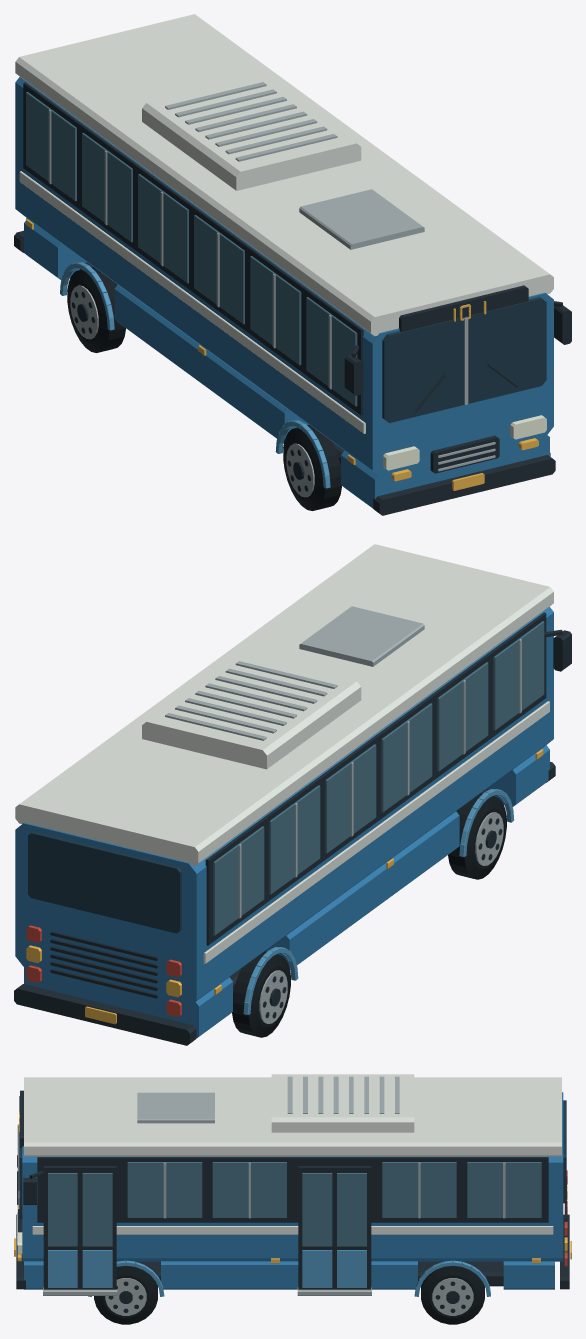
File: CivilianBus.obj
3 renders of one model, top to bottom at view 1: azimuth 30°, elevation 25°; view 2: azimuth 150°, elevation 25°; view 3: azimuth 270°, elevation 25°, orthographic. The views are drawn at different scales.
Parts seen in each view (by area): view 1: Roof, BusBody, Windshield, RoofAC, WindowBandL, LowerCenter, SideWhiteBandL, RoofHatch, SideGlassL4, SideGlassL1, SideGlassL2, SideGlassL0 (+15 smaller); view 2: Roof, BusBody, RoofAC, RearWindow, WindowBandL, LowerCenter, SideWhiteBandL, RoofHatch, LowerEnd-3.4, SideGlassL0, SideGlassL1, SideGlassL3 (+10 smaller); view 3: Roof, BusBody, WindowBandR, RoofAC, LowerCenter, SideGlassR4, SideGlassR1, SideGlassR0, SideGlassR3, SideWhiteBandR, DoorFrame0, DoorFrame1 (+22 smaller).
Boxes of the visible parts, x1=… form: Roof: x1=15, y1=14, x2=553, y2=336; BusBody: x1=15, y1=77, x2=553, y2=476; Windshield: x1=382, y1=297, x2=546, y2=423; RoofAC: x1=142, y1=74, x2=361, y2=190; WindowBandL: x1=23, y1=82, x2=363, y2=415; LowerCenter: x1=114, y1=285, x2=308, y2=443; SideWhiteBandL: x1=19, y1=171, x2=365, y2=433; RoofHatch: x1=299, y1=189, x2=424, y2=249; SideGlassL4: x1=250, y1=256, x2=301, y2=365; SideGlassL1: x1=82, y1=133, x2=132, y2=242; SideGlassL2: x1=138, y1=174, x2=188, y2=283; SideGlassL0: x1=26, y1=92, x2=76, y2=201; Roof: x1=15, y1=544, x2=553, y2=866; BusBody: x1=15, y1=606, x2=553, y2=1006; RoofAC: x1=142, y1=653, x2=361, y2=769; RearWindow: x1=28, y1=831, x2=181, y2=933; WindowBandL: x1=205, y1=612, x2=546, y2=945; LowerCenter: x1=265, y1=811, x2=459, y2=970; SideWhiteBandL: x1=203, y1=701, x2=549, y2=963; RoofHatch: x1=299, y1=606, x2=424, y2=666; LowerEnd-3.4: x1=24, y1=967, x2=232, y2=1038; SideGlassL0: x1=213, y1=826, x2=264, y2=935; SideGlassL1: x1=269, y1=785, x2=320, y2=894; SideGlassL3: x1=381, y1=703, x2=432, y2=812; Roof: x1=24, y1=1077, x2=561, y2=1156; BusBody: x1=22, y1=1092, x2=563, y2=1261; WindowBandR: x1=37, y1=1157, x2=548, y2=1222; RoofAC: x1=271, y1=1074, x2=414, y2=1132; LowerCenter: x1=161, y1=1261, x2=417, y2=1289; SideGlassR4: x1=127, y1=1162, x2=202, y2=1217; SideGlassR1: x1=382, y1=1162, x2=456, y2=1217; SideGlassR0: x1=467, y1=1162, x2=541, y2=1217; SideGlassR3: x1=212, y1=1162, x2=286, y2=1217; SideWhiteBandR: x1=32, y1=1226, x2=553, y2=1234; DoorFrame0: x1=43, y1=1166, x2=116, y2=1289; DoorFrame1: x1=298, y1=1166, x2=371, y2=1289.
Bounding box in the file's own units: 2.74 × 3.12 × 8.02.
